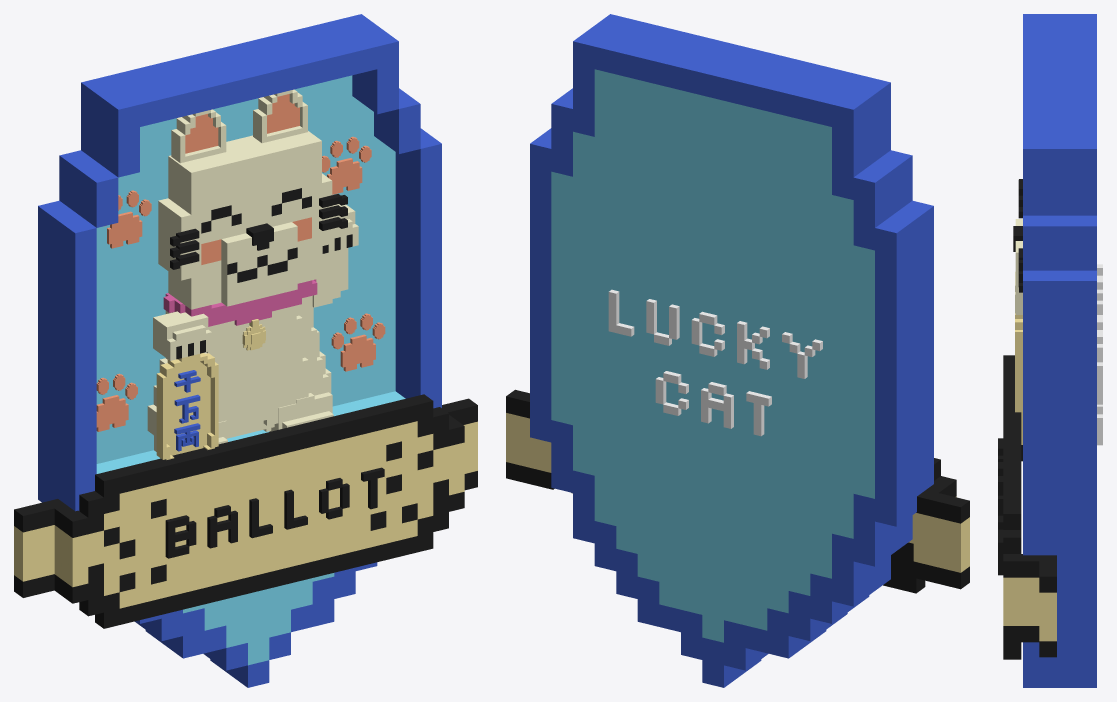
Rendered from lucky_cat.gltf.
The picture shows the model from 3 angles, left to right: view 1: azimuth 30°, elevation 25°; view 2: azimuth 150°, elevation 25°; view 3: azimuth 270°, elevation 25°; orthographic projection.
Parts seen in each view (by area): view 1: Cube, Cube.036, Cube.008, Cube.001, Cube.037, Cube.007, Cube.009, Cube.002, Cube.006, Cube.058, Cube.059, Cube.003 (+6 smaller); view 2: Cube, Cube.036, Text.023, Text.019, Text.017, Text.018, Text.021, Text.020; view 3: Cube, Cube.036, Cube.007, Cube.008, Text.015, Text.016, Text.021.
Part boxes in pixels (x1,y1,x2,y2): Cube: (38, 14, 441, 687); Cube.036: (14, 394, 477, 628); Cube.008: (158, 131, 332, 309); Cube.001: (147, 295, 331, 438); Cube.037: (96, 391, 405, 665); Cube.007: (156, 353, 218, 459); Cube.009: (171, 89, 307, 163); Cube.002: (163, 279, 317, 326); Cube.006: (153, 311, 211, 360); Cube.058: (96, 334, 375, 431); Cube.059: (107, 158, 362, 248); Cube.003: (154, 392, 333, 451); Cube: (530, 14, 933, 687); Cube.036: (506, 389, 969, 593); Text.023: (701, 382, 733, 428); Text.019: (737, 321, 769, 369); Text.017: (646, 299, 679, 345); Text.018: (691, 311, 724, 356); Text.021: (655, 371, 688, 415); Text.020: (782, 332, 822, 378); Cube: (1023, 14, 1096, 687); Cube.036: (1003, 355, 1056, 659); Cube.007: (1015, 313, 1022, 418); Cube.008: (1015, 219, 1022, 314); Text.015: (998, 532, 1003, 575); Text.016: (1097, 362, 1102, 404); Text.021: (1097, 404, 1102, 445).
Size of the model in its own units: 1.73 by 2.22 by 0.3499.
